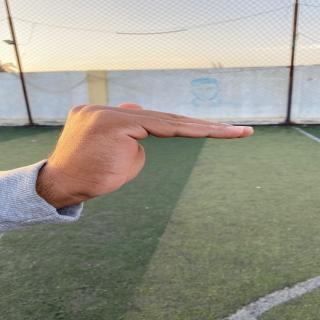KHAA: (36, 90, 270, 210)
